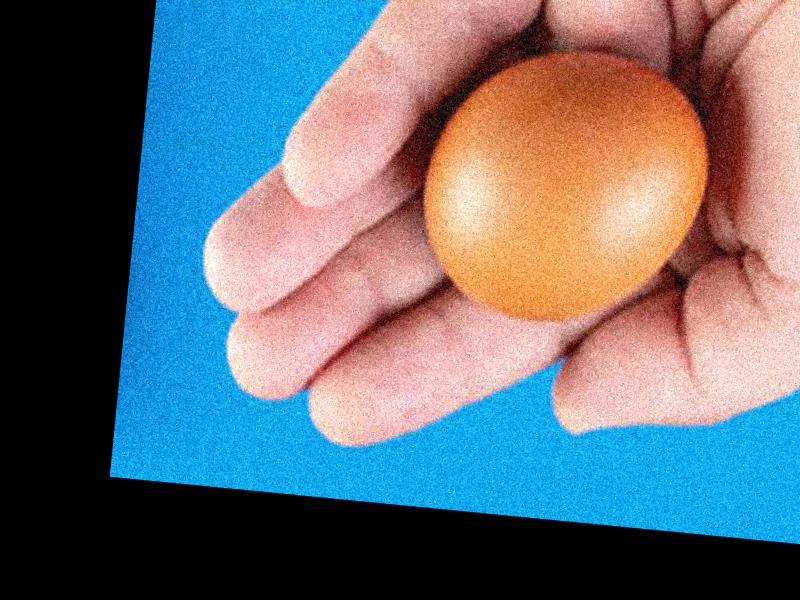Eggs: (409, 43, 715, 335)
